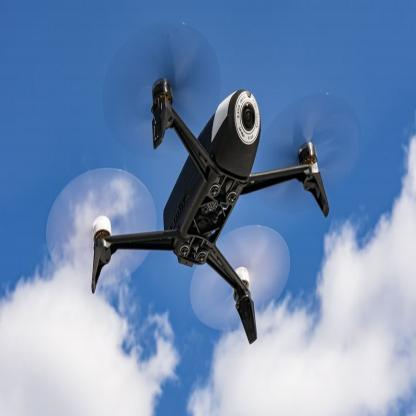drone: (64, 70, 341, 346)
